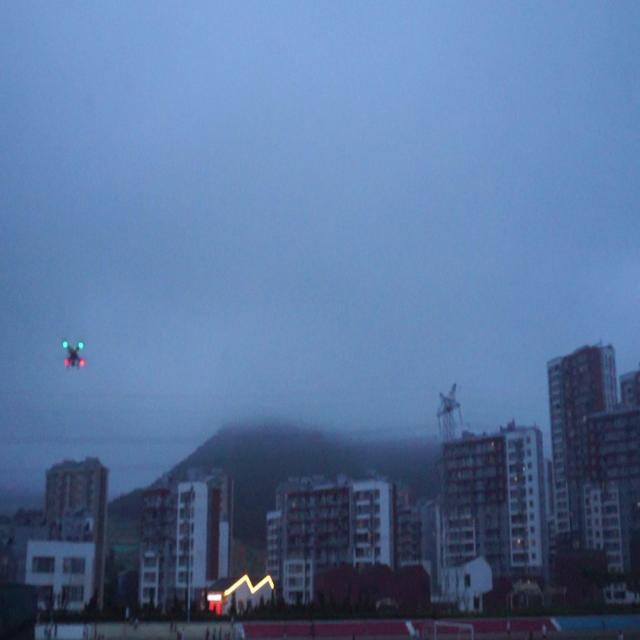drone: (61, 336, 85, 374)
